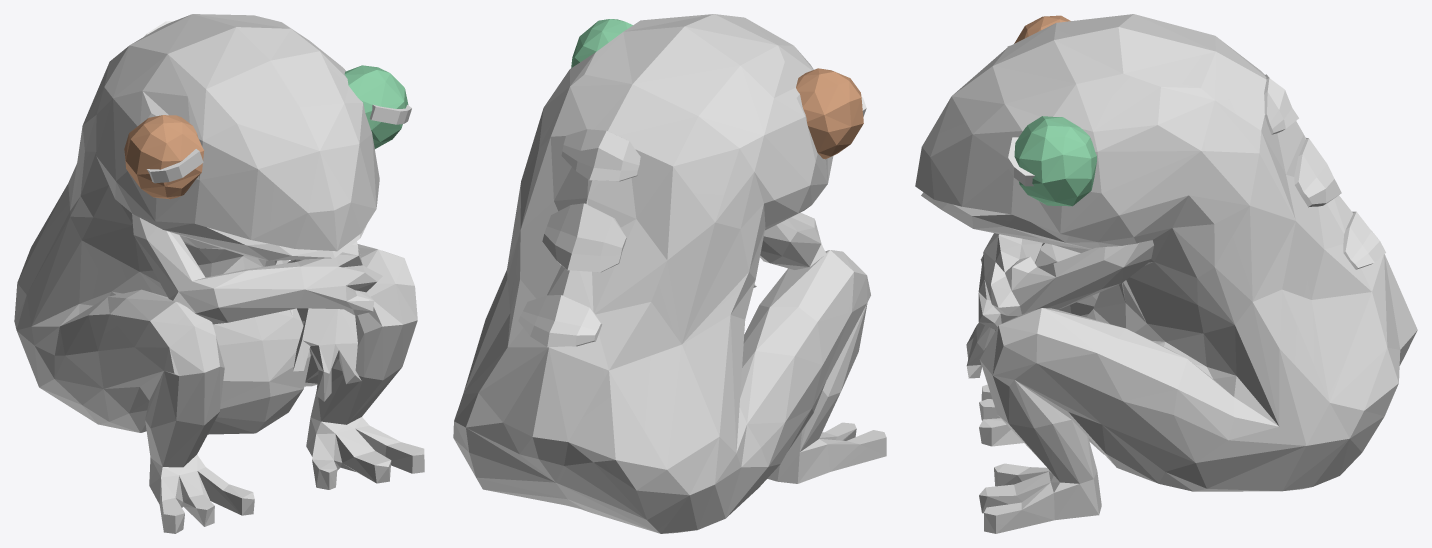
File: frog.fbx
The picture shows the model from 3 angles, left to right: view 1: azimuth 30°, elevation 25°; view 2: azimuth 150°, elevation 25°; view 3: azimuth 270°, elevation 25°; orthographic projection. The views are drawn at different scales.
Parts seen in each view (by area): view 1: frogbody, froghand, frogbelly, frogeye, frogeyeblack; view 2: frogbody, frogback, frogeye, froghand; view 3: frogbody, froghand, frogeye, frogback, frogbelly.
Boxes of the visible parts, x1,y1,x2,y2 form: frogbody: (14,14,424,533); froghand: (132,213,382,401); frogbelly: (213,256,310,421); frogeye: (124,65,408,199); frogeyeblack: (147,104,411,183); frogbody: (453,14,886,533); frogback: (518,129,641,347); frogeye: (571,19,863,159); froghand: (753,212,826,287); frogbody: (915,14,1417,533); froghand: (966,233,1153,378); frogeye: (1014,15,1096,206); frogback: (1264,74,1385,269); frogbelly: (1086,284,1126,328).
Size of the model in its own units: 50.71 by 74.83 by 77.01.
